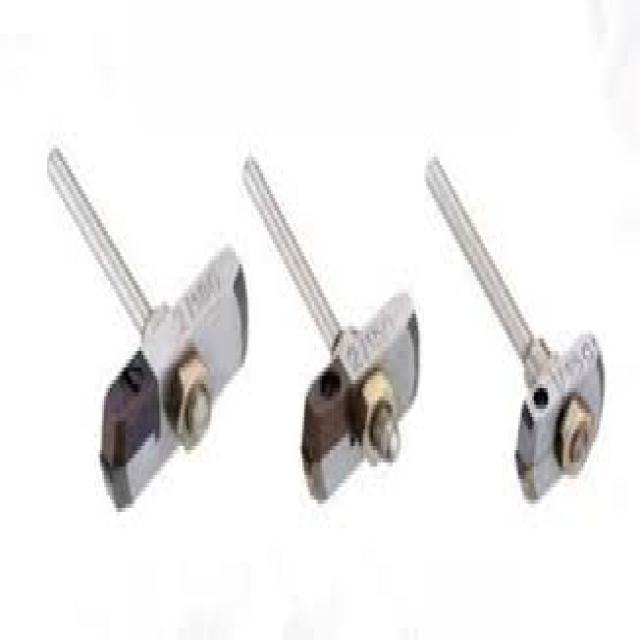Palu: (29, 137, 247, 517), (422, 152, 617, 519), (240, 134, 416, 512)
